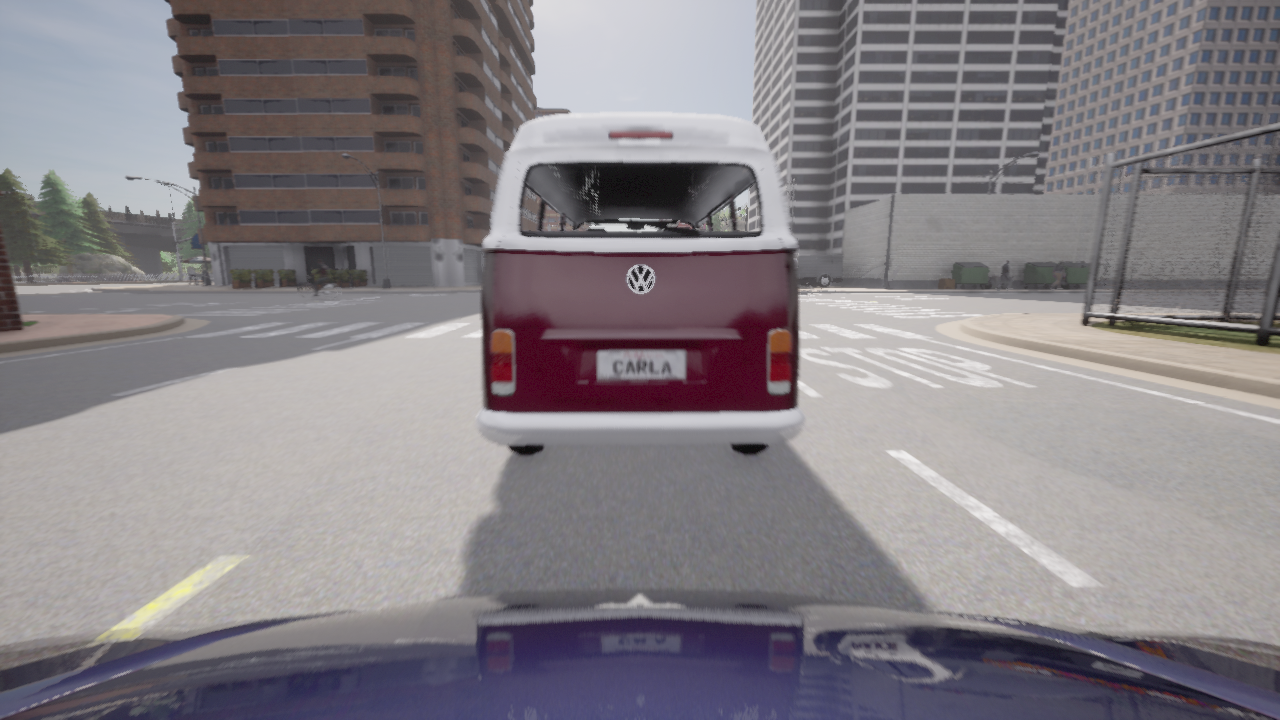cyclist: (0, 588, 1279, 719), (475, 113, 805, 454), (795, 255, 842, 286), (299, 276, 339, 299), (798, 282, 809, 285)
pedestrian: (996, 260, 1011, 289), (1050, 260, 1064, 289)
